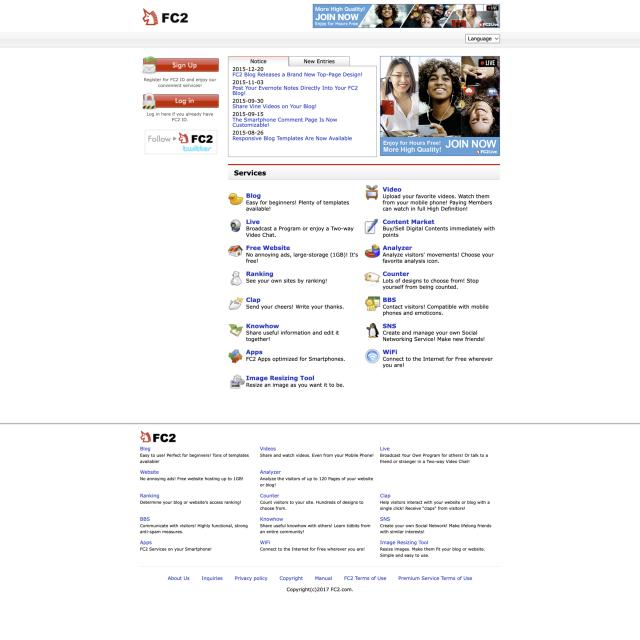footer: (0, 422, 639, 640)
logo: (140, 7, 191, 30)
navigation: (230, 178, 500, 389)
